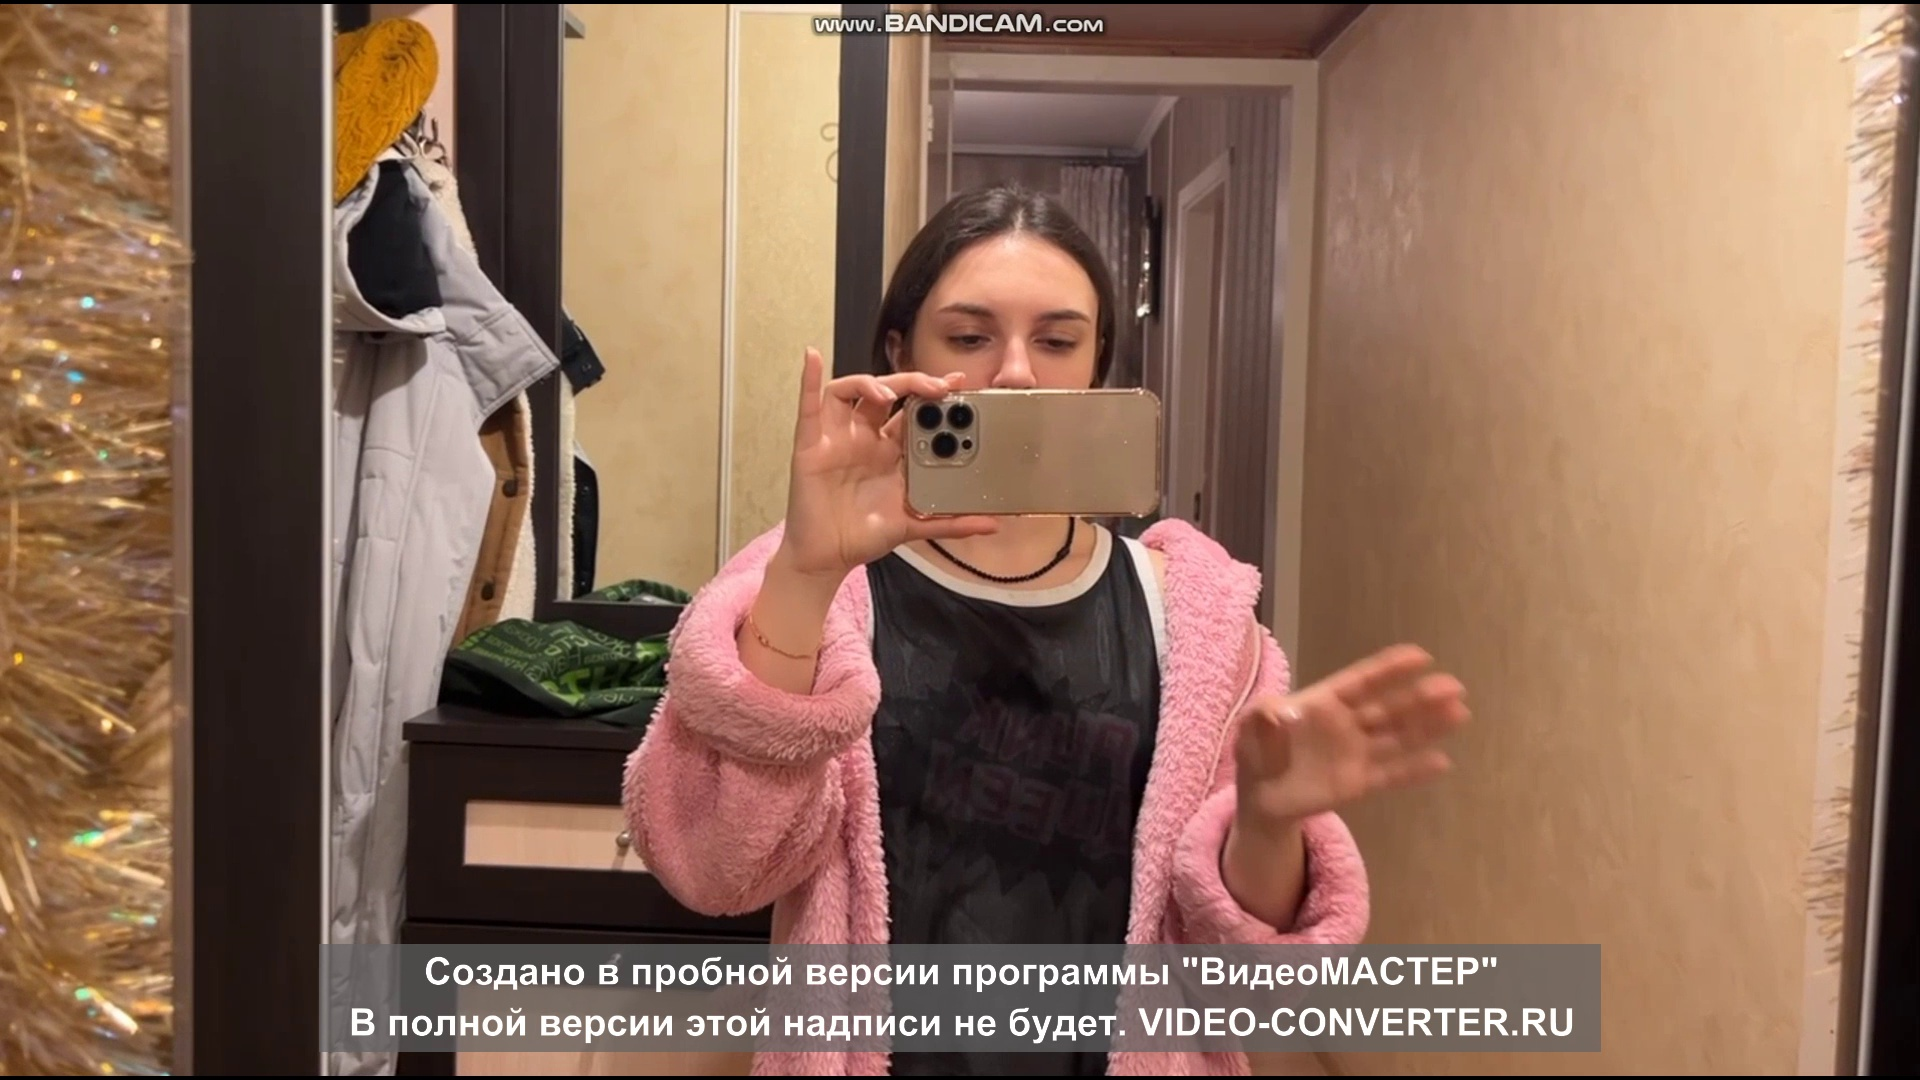Ладонь: (1228, 645, 1473, 815)
